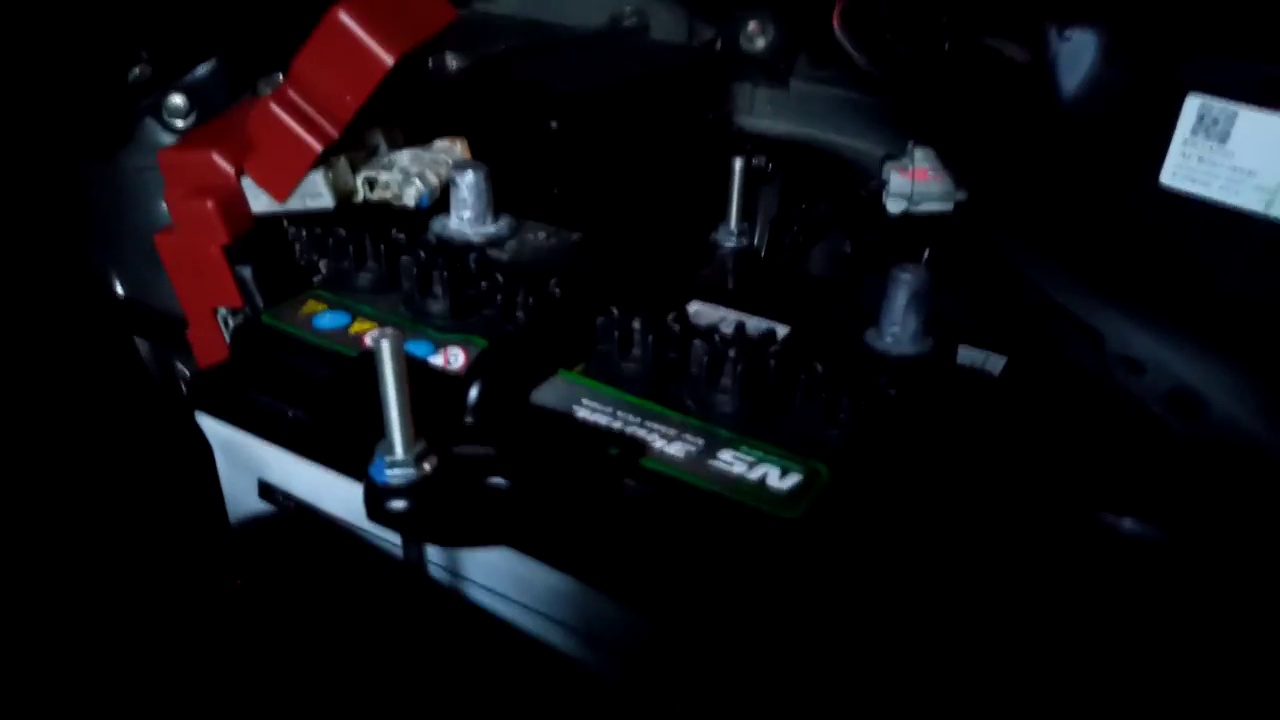battery: (205, 130, 967, 549)
neg_disconnected: (850, 231, 945, 388)
pos_disconnected: (126, 98, 522, 327)
